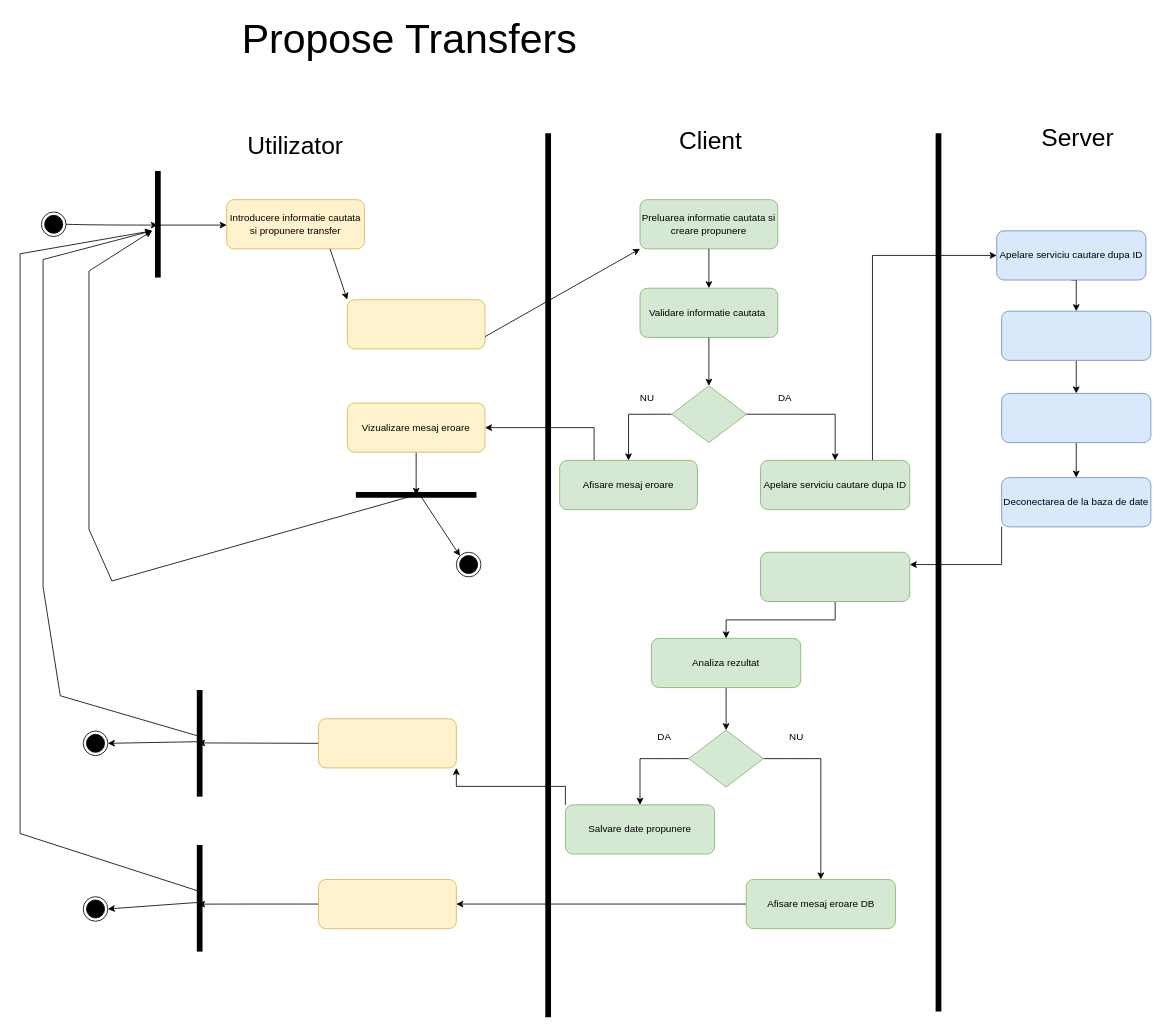
This 1165x1035 diagram has some shape labels left out. The centre of each missing label's shape, as x and y in pixels:
"Conectare la baza de date" goes at point (1076, 335).
"Executarea interogarii si salvare propunere" goes at point (1076, 418).
"Generare cautare club/jucator" goes at point (415, 324).
"Preluare rezultat interogare" goes at point (835, 576).
"Vizualizare eroare DB" goes at point (387, 904).
"Vizualizare status propunere" goes at point (387, 743).
